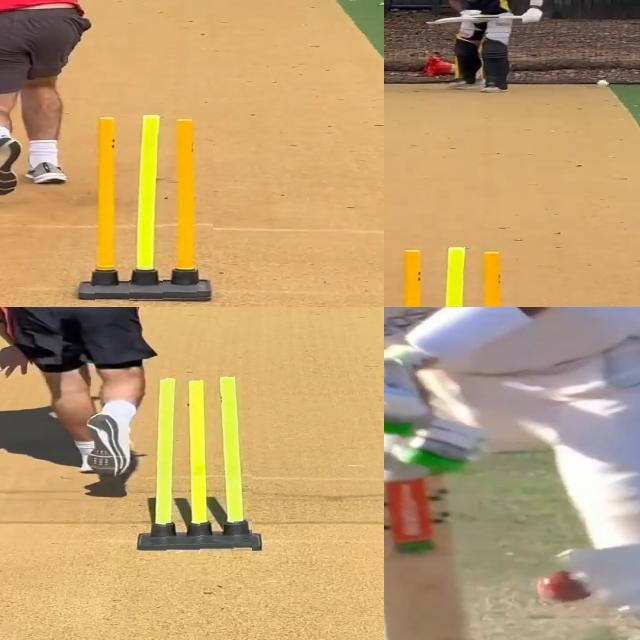Cricket ball: (536, 566, 596, 603), (596, 79, 610, 87)
Stumps: (78, 114, 213, 302), (149, 375, 252, 556), (384, 246, 519, 307)
